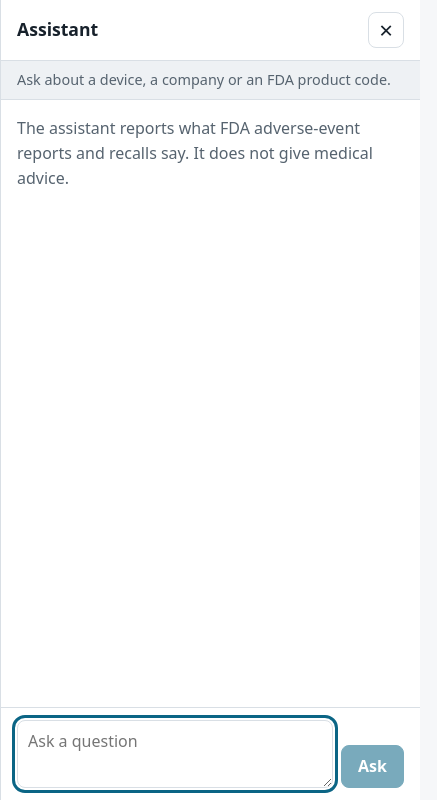
statuses from /api/answer (handover §5) › budget: the fixed text
Step 1. Type "a question" into the text box named "Your question" → [175, 754], box [17,720,333,788]
Then press Enter
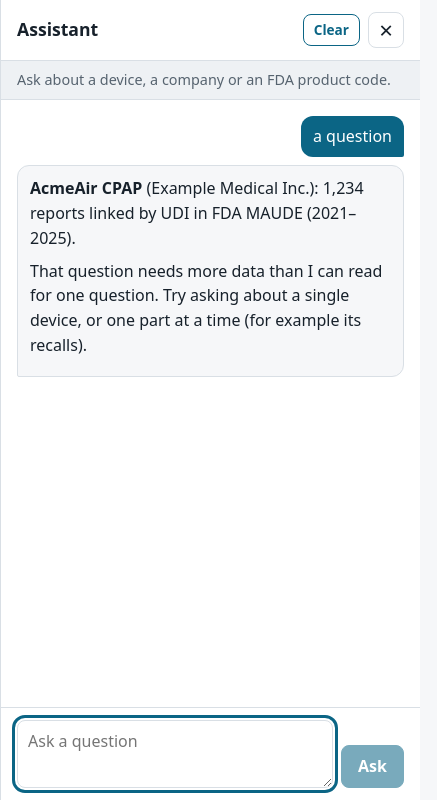
Now the element with class "reply" is shown, box [17,165,404,377]
Now the element with class "reply" shows "That question needs more data than I can read for one question. Try asking about a single device, or one part at a time (for example its recalls).", box [30,260,382,356]
